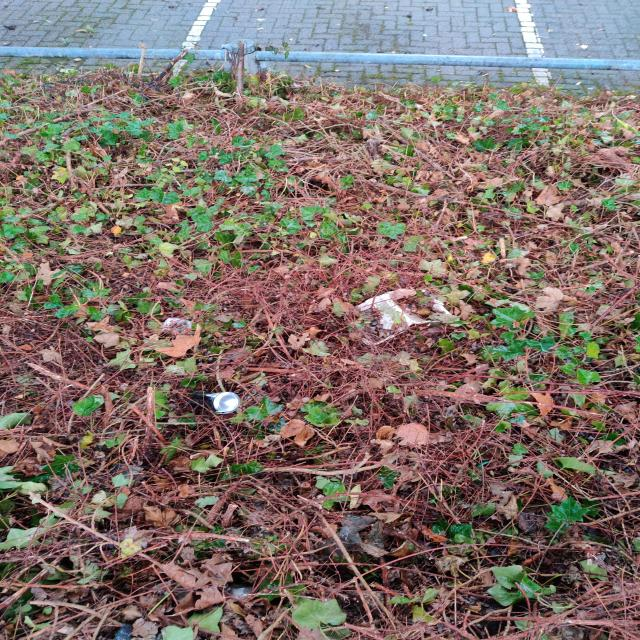litter: (185, 388, 236, 415), (158, 313, 204, 338)
